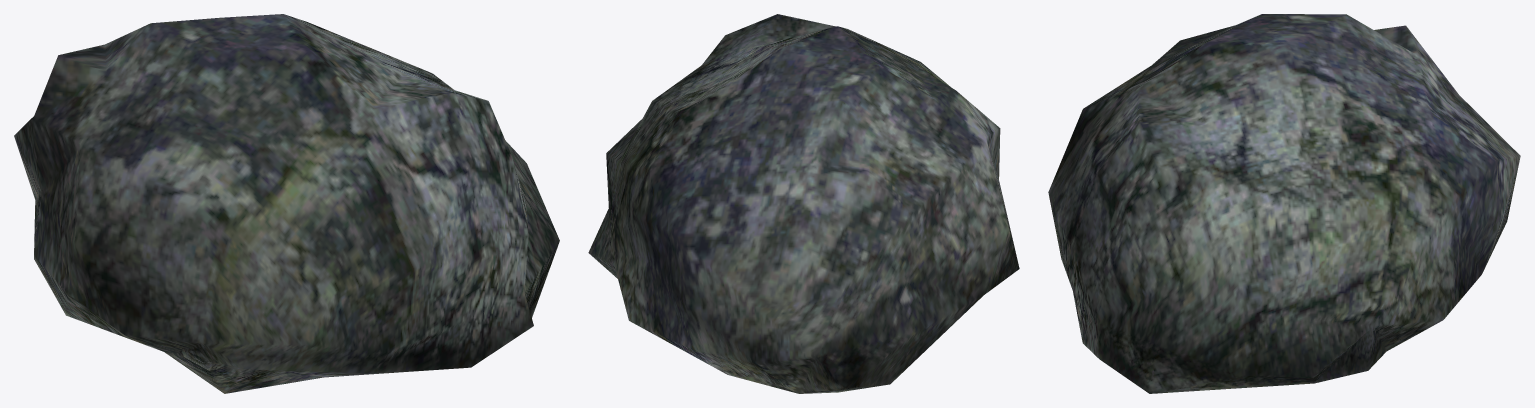
File: rock_med02.dae
3 views of the same model, side by side, from view 1: azimuth 30°, elevation 25°; view 2: azimuth 150°, elevation 25°; view 3: azimuth 270°, elevation 25° (orthographic). The views are drawn at different scales.
Parts seen in each view (by area): view 1: stone_med02_mesh; view 2: stone_med02_mesh; view 3: stone_med02_mesh.
Boxes of the visible parts, x1,y1,x2,y2 form: stone_med02_mesh: (14, 14, 559, 393); stone_med02_mesh: (588, 14, 1019, 393); stone_med02_mesh: (1048, 14, 1520, 393).
Size of the model in its own units: 1.06 by 0.7072 by 1.06.
